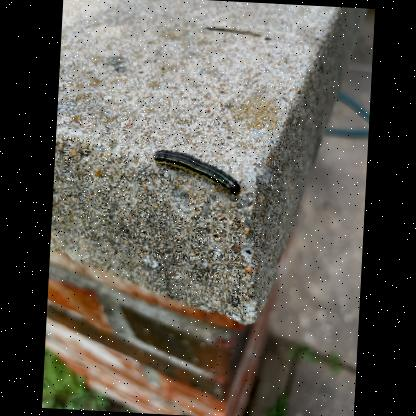Fall Armyworm Larvae: (150, 146, 244, 197)
